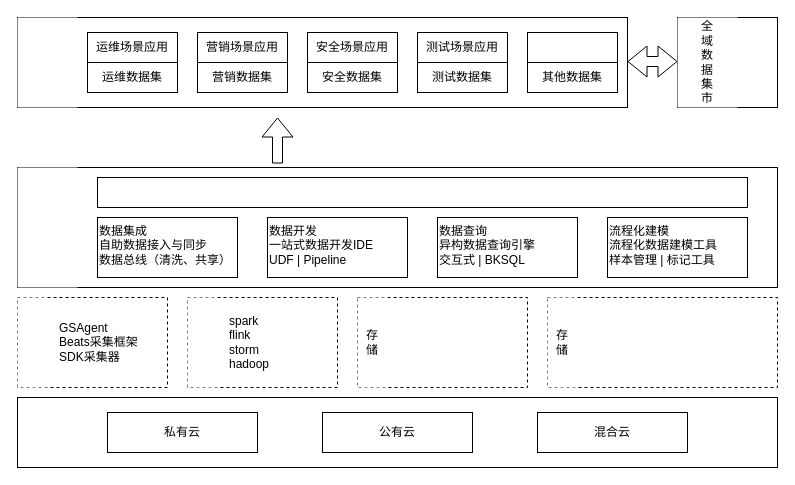
The diagram is 795 pixels wide and 485 high, and some of its shapes have lost their labels. Each missing label, with the box of its shape:
leavn pandas tensorflow: (546, 296, 778, 388)
mysql es redis druid tidb tsdb hdfs: (356, 296, 528, 388)
中 间 服 务 层: (17, 167, 77, 287)
全链路数据资产管理（元数据管理、数据指令、数据标准、数据安全）: (96, 176, 748, 208)
其他场景应用: (526, 32, 618, 62)
场 景 应 用: (17, 17, 77, 107)
数 据 采 集: (17, 297, 47, 387)
计 算 框 架: (187, 297, 217, 387)
